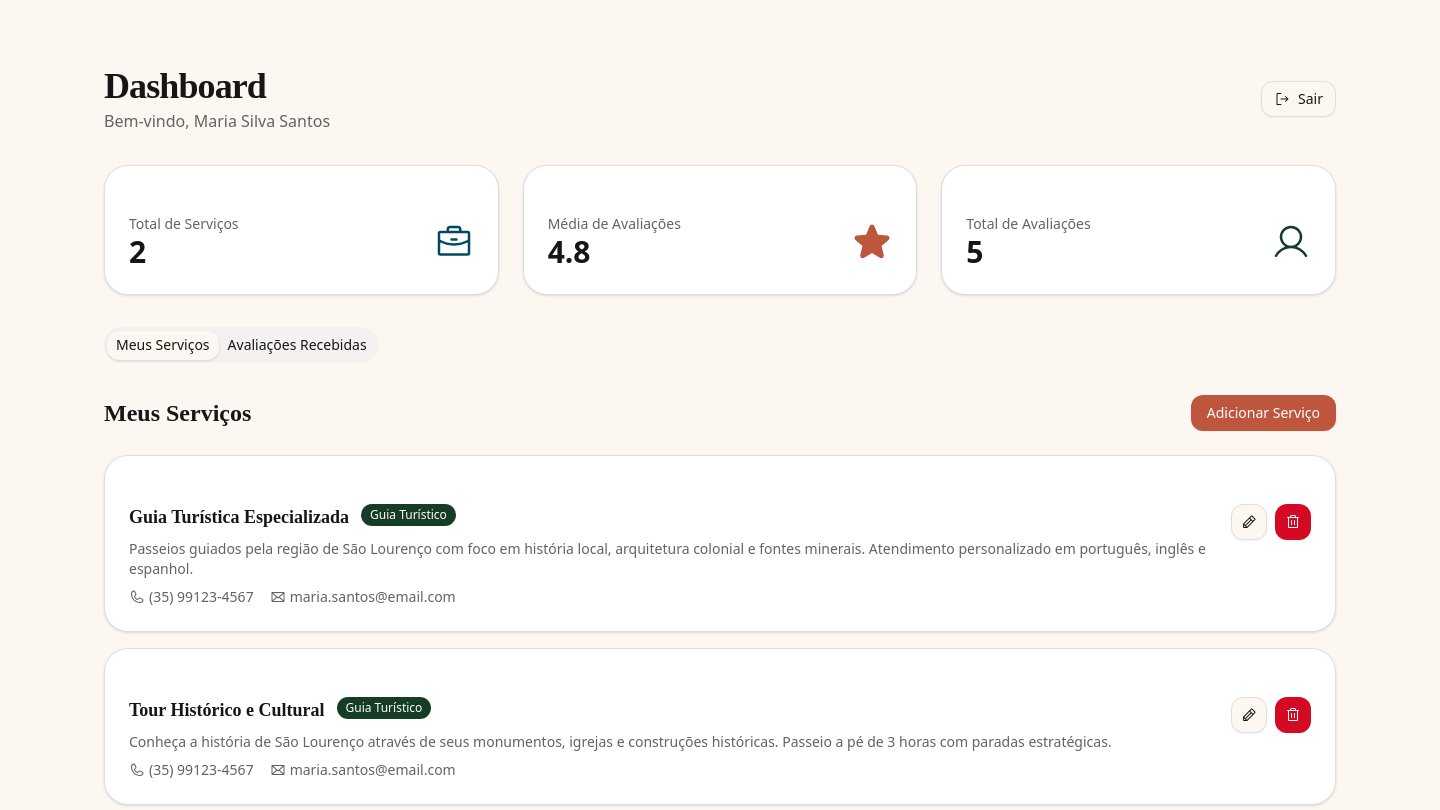
Test: DashboardPage › switches between "Meus Serviços" and "Avaliações Recebidas" tabs
Expected: the heading "Meus Serviços" is shown, [104,396,251,430]
Click the tab "Avaliações Recebidas" at (297, 345), box [219,330,376,360]
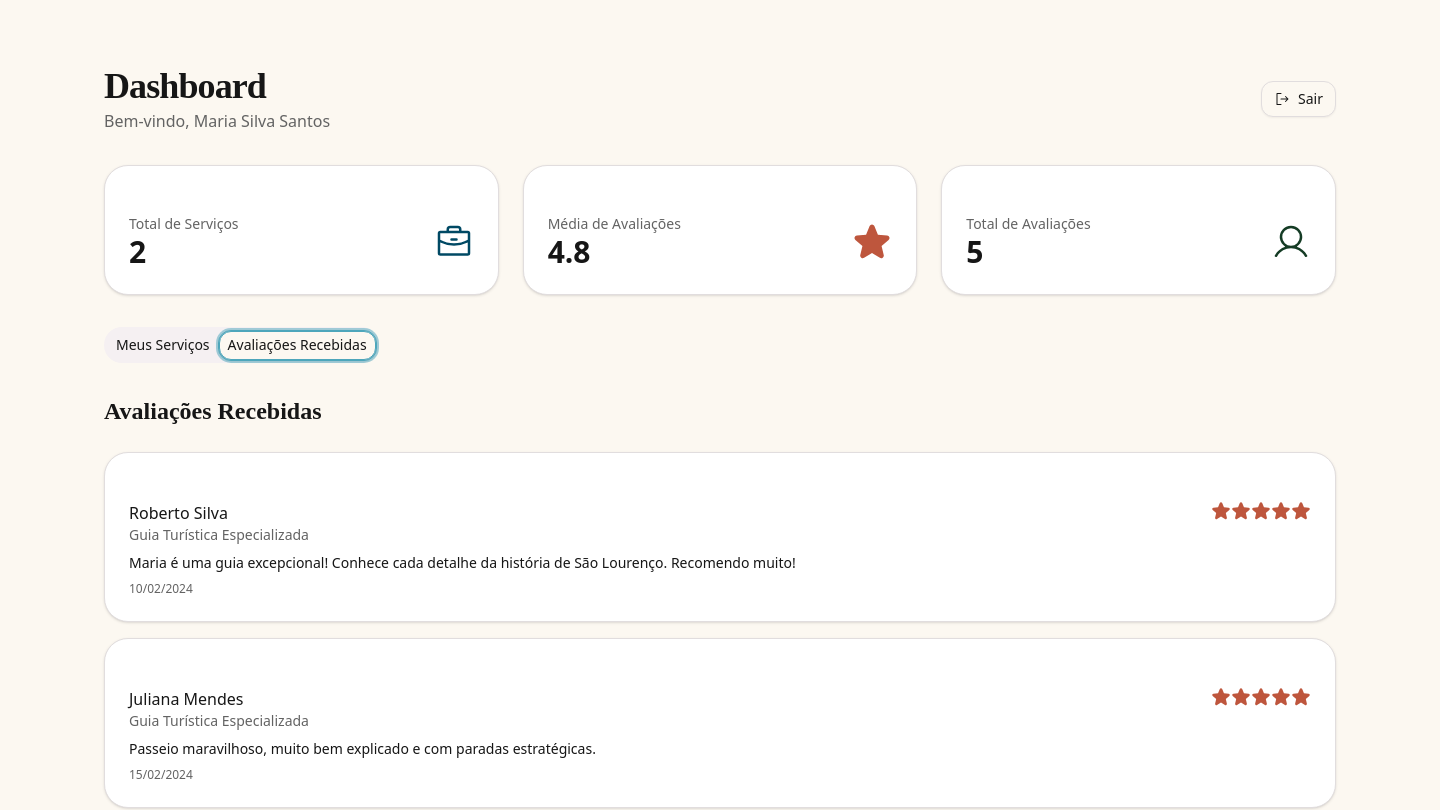
Now the heading "Avaliações Recebidas" is shown, box [104,398,322,424]
